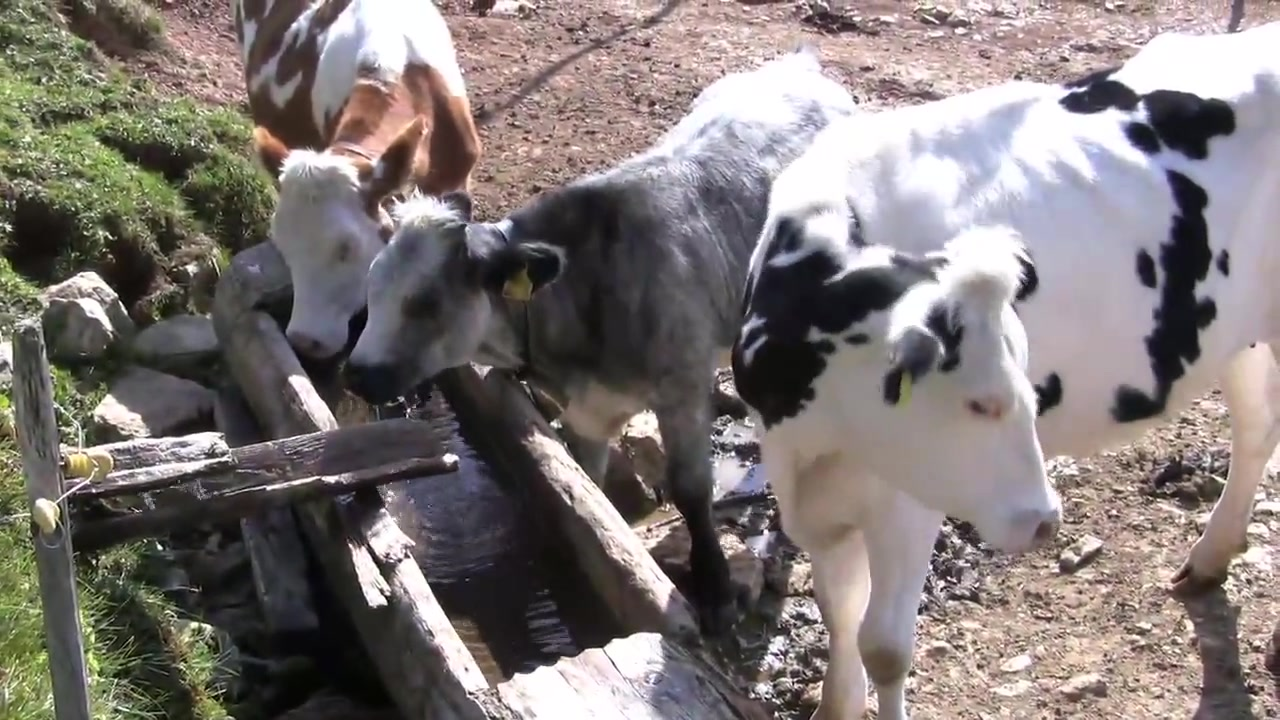cow: (732, 22, 1280, 720)
